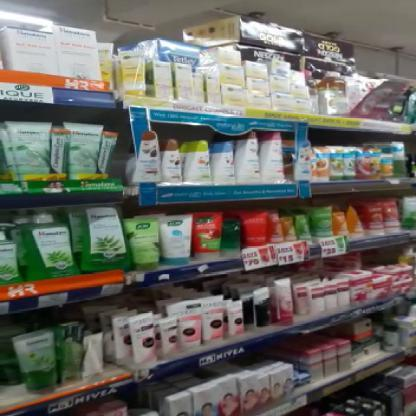Everyuth Naturals Body Lotion Nourishing Cocoa 200ml: (240, 130, 264, 184), (158, 135, 180, 183)
Everyuth Naturals Body Lotion Rejuvenating Flora 200ml: (259, 128, 286, 186)
Everyuth Naturals Body Lotion Soothing Citrus 200ml: (183, 138, 213, 184)
Everyuth Naturals Body Lotion Sun Care Berries SPF 15 200ml: (211, 137, 240, 184)
